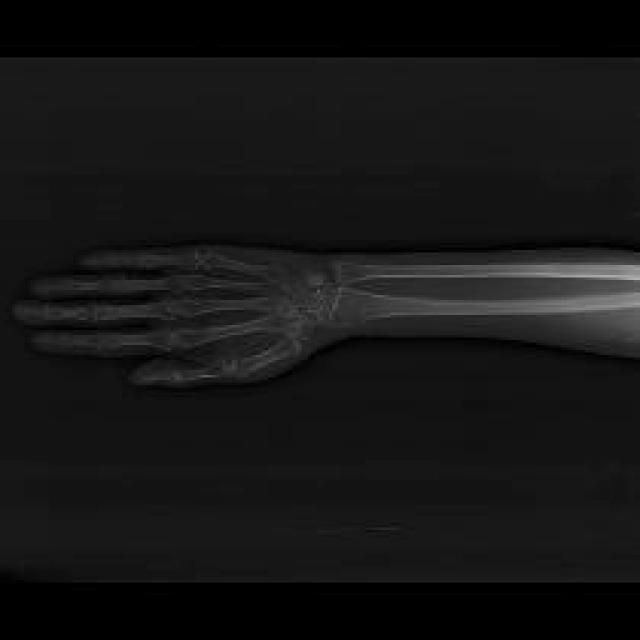normal: (27, 255, 640, 383)
